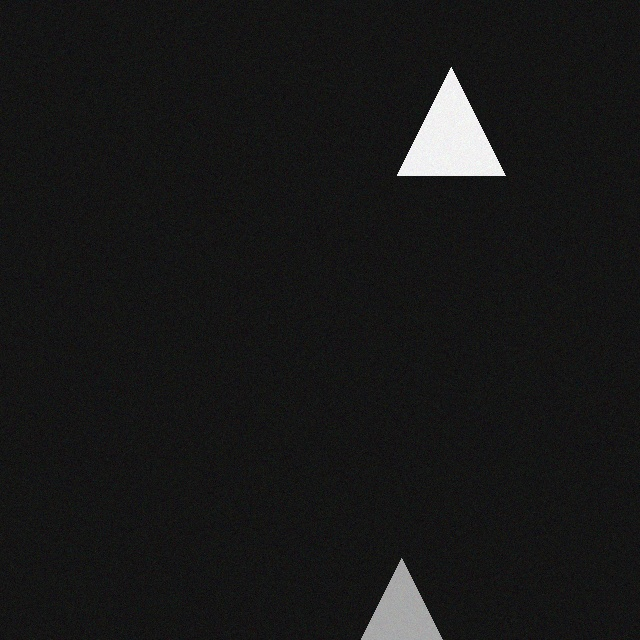triangle: (410, 56, 518, 164), (374, 547, 455, 628)
